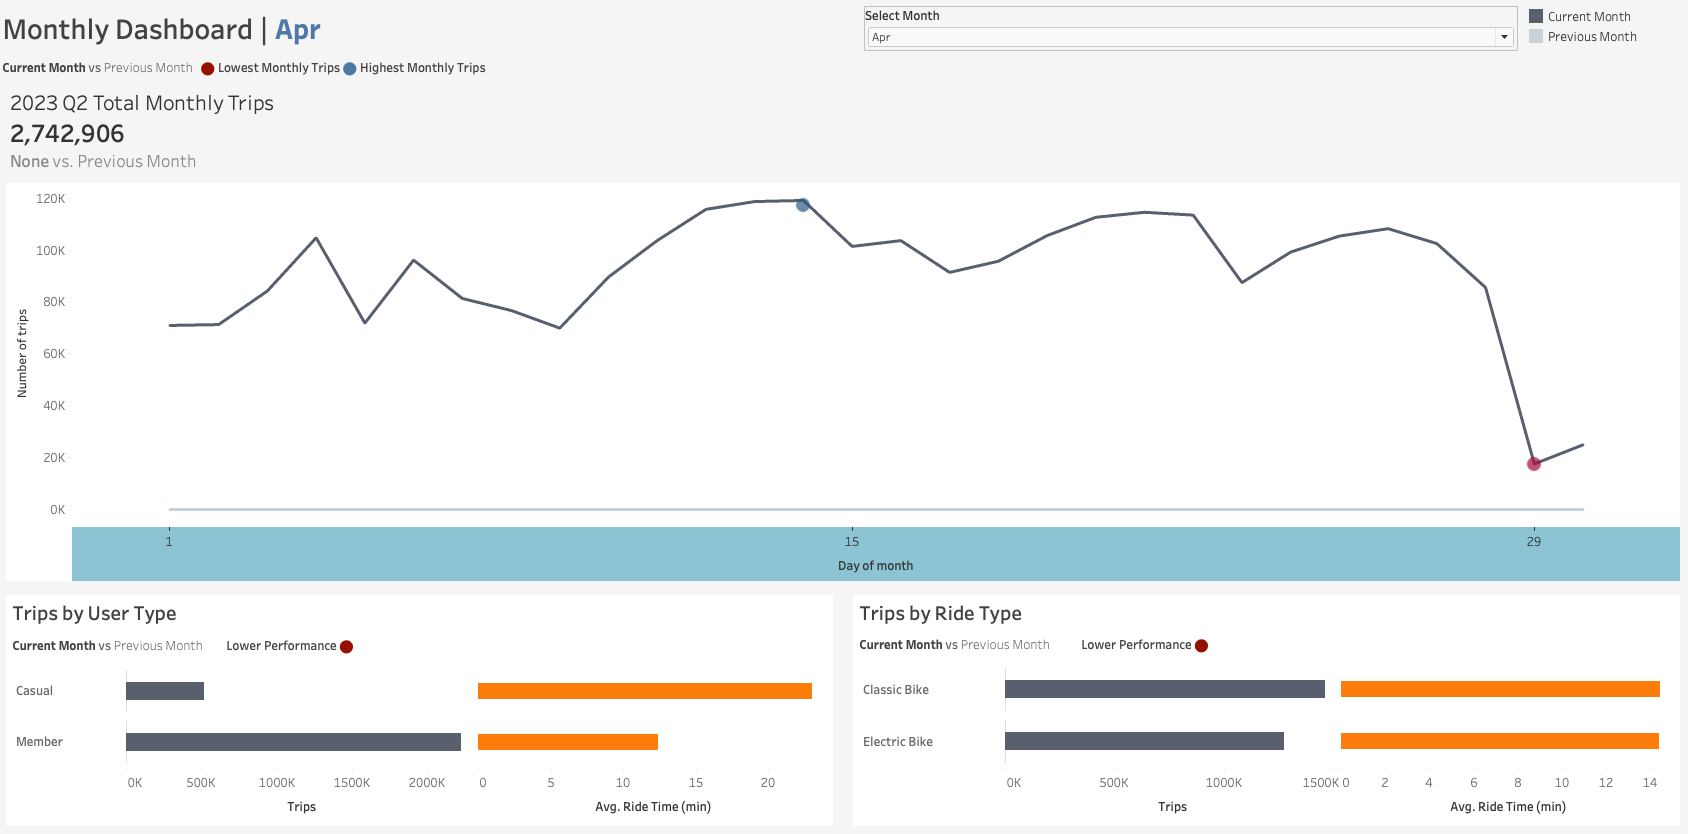

Layout of this report page (visuals, bound fields, positions):
{"tool":"tableau","page":{"name":"Monthly Trips","canvas":[1000,1000],"units":"permille","ordinal":0},"visuals":[{"type":"text","box":[0,0,593.8,53.6]},{"type":"parameter","param":"[Parameters].[Parameter 1]","box":[593.8,0,290.7,53.6]},{"type":"legend","title":"Trips","param":"[federated.02sm7nr1siw9os1d3kso008bdk6i].[:Measure Names]","box":[884.5,0,115.5,53.6]},{"type":"text","box":[0,53.6,1000,25.3]},{"type":"worksheet","title":"Trips","mark":"Line","rows":["Calculation_2813975771045302283"],"cols":["ended_at"],"box":[0,79,1000,635.6]},{"type":"text","box":[6.9,724.7,486.6,34.4]},{"type":"text","box":[507.2,724.7,485.9,34.4]},{"type":"text","box":[6.9,759.1,147.1,32.4]},{"type":"text","box":[154,759.1,339.5,32.4]},{"type":"text","box":[507.2,759.1,152.6,30.4]},{"type":"text","box":[659.8,759.1,333.3,30.4]},{"type":"worksheet","title":"Bikes","mark":"Bar","rows":["rideable_type","Calculation_2377900663737311233"],"cols":["CM Trips (copy)_2813975771367456798","Calculation_2813975771363704857","Current Month Ride Duration (copy)_2813975771250921492","Current Month Trips (copy)_2813975771250335763"],"box":[507.2,789.5,485.9,169]},{"type":"worksheet","title":"Users","mark":"Bar","rows":["member_casual","Calculation_2377900663737311233"],"cols":["CM Trips (copy)_2813975771367456798","Calculation_2813975771363704857","Current Month Ride Duration (copy)_2813975771250921492","Current Month Trips (copy)_2813975771250335763"],"box":[6.9,791.5,486.6,167]}]}

Visuals, with their boxes on the dashboard's canvas, which has no fixed pixel size, in thousandths of its width and height (x1, y1, x2, y2). These are canvas units, not pixel positions in the 1688x834 screenshot, which may show the page scaled, cropped or inside an application window:
text: [x1=0, y1=0, x2=594, y2=54]
parameter: [x1=594, y1=0, x2=884, y2=54]
"Trips" legend: [x1=884, y1=0, x2=1000, y2=54]
text: [x1=0, y1=54, x2=1000, y2=79]
"Trips" worksheet (Line marks): [x1=0, y1=79, x2=1000, y2=715]
text: [x1=7, y1=725, x2=494, y2=759]
text: [x1=507, y1=725, x2=993, y2=759]
text: [x1=7, y1=759, x2=154, y2=792]
text: [x1=154, y1=759, x2=494, y2=792]
text: [x1=507, y1=759, x2=660, y2=790]
text: [x1=660, y1=759, x2=993, y2=790]
"Bikes" worksheet (Bar marks): [x1=507, y1=790, x2=993, y2=958]
"Users" worksheet (Bar marks): [x1=7, y1=792, x2=494, y2=958]
